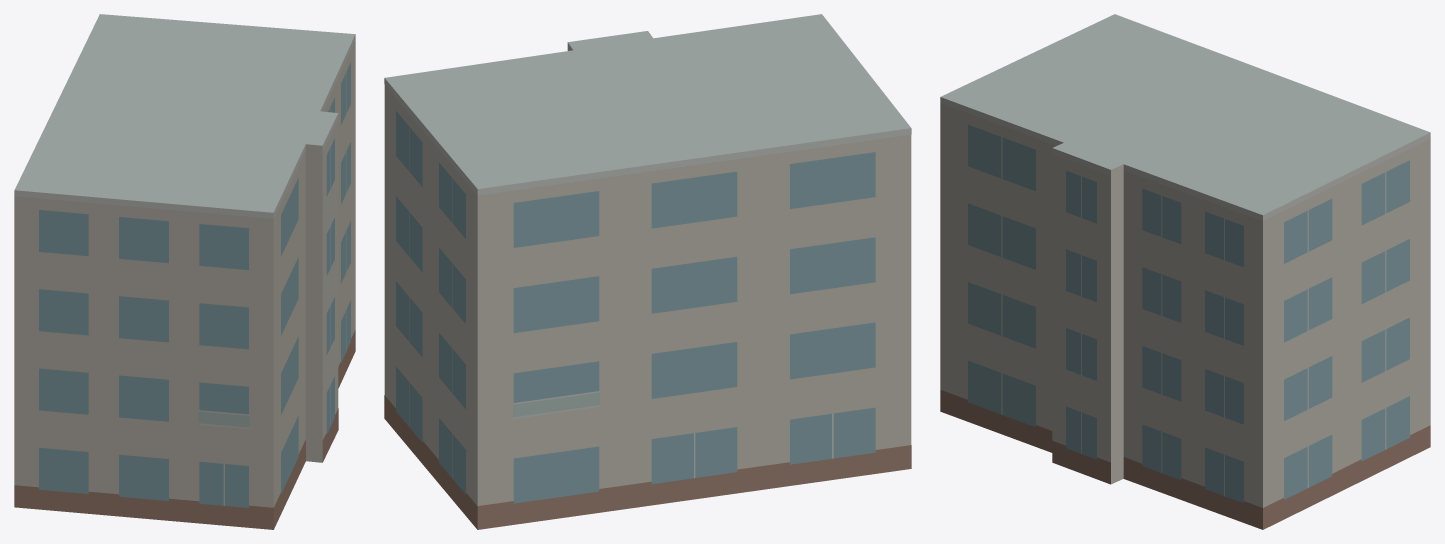
Rendered from survey-upis-32946065.glb.
3 renders of one model, left to right at view 1: azimuth 30°, elevation 25°; view 2: azimuth 150°, elevation 25°; view 3: azimuth 270°, elevation 25°, orthographic. The views are drawn at different scales.
Visible parts, largest first — view 1: survey-upis-32946065.tmp; view 2: survey-upis-32946065.tmp; view 3: survey-upis-32946065.tmp.
Part boxes in pixels (x1,y1,x2,y2): survey-upis-32946065.tmp: [14, 14, 355, 529]; survey-upis-32946065.tmp: [384, 14, 911, 529]; survey-upis-32946065.tmp: [940, 14, 1430, 529].
Size of the model in its own units: 17.71 by 12.9 by 18.23.
